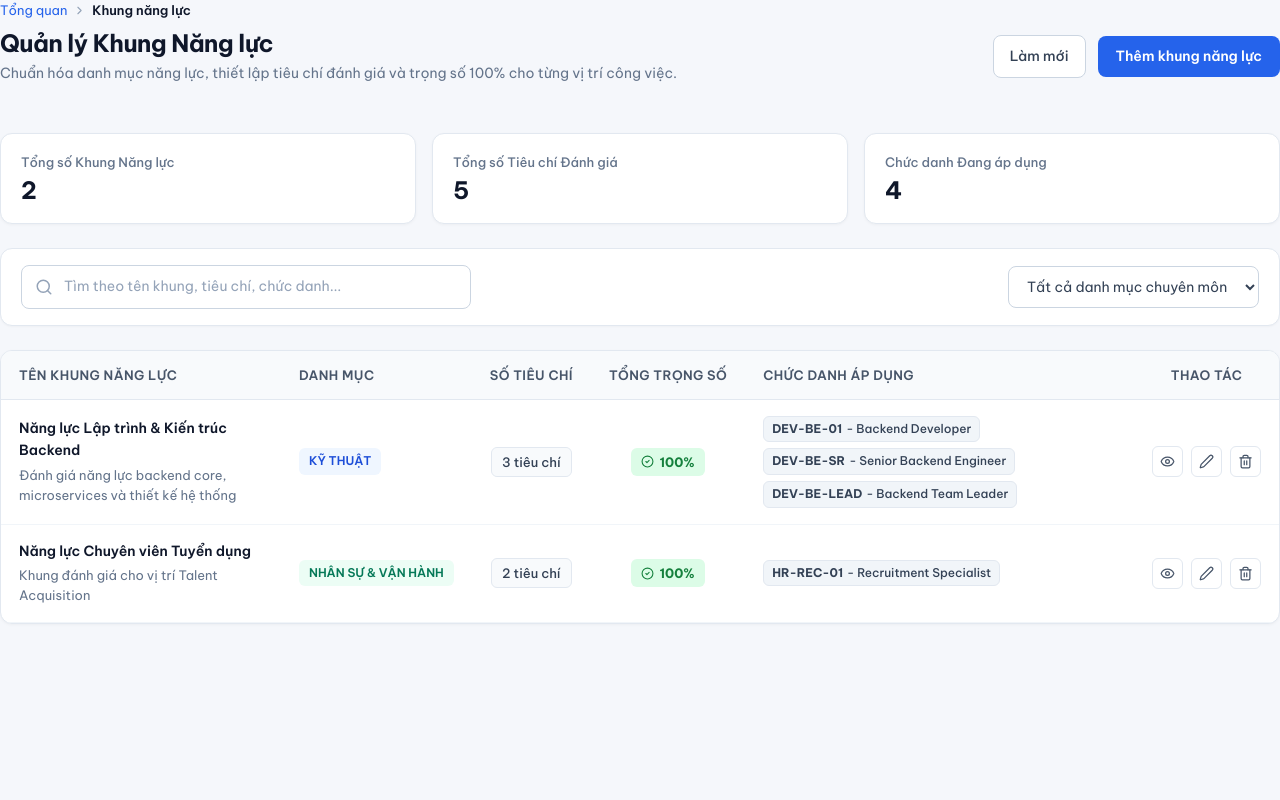
it: CompetencyFrameworkPage (S2-06 Quản lý khung năng lực - SCRUM-54) › TC10 - Protects framework in use when attempting to delete
Expected: the text "Năng lực Lập trình & Kiến trúc Backend" is shown, x1=19 y1=418 x2=263 y2=462
Note: Click delete button for framework #1 (which is used by 3 job titles)
Click the button with test id "delete-framework-1" at (1246, 462), box x1=1230 y1=446 x2=1261 y2=477
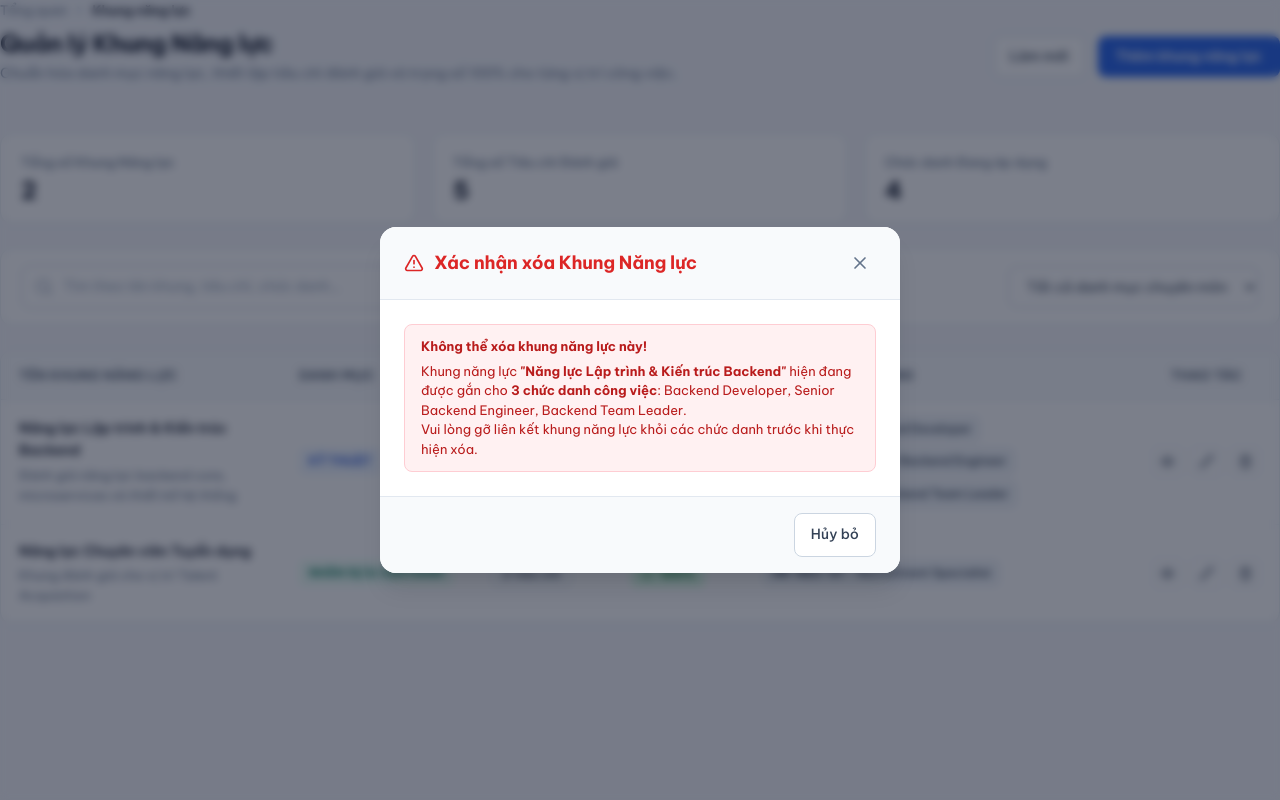
Expected: the heading "Xác nhận xóa Khung Năng lực" is shown, x1=404 y1=251 x2=697 y2=276
Expected: the text "Không thể xóa khung năng lực này!" is shown, x1=421 y1=338 x2=647 y2=354
